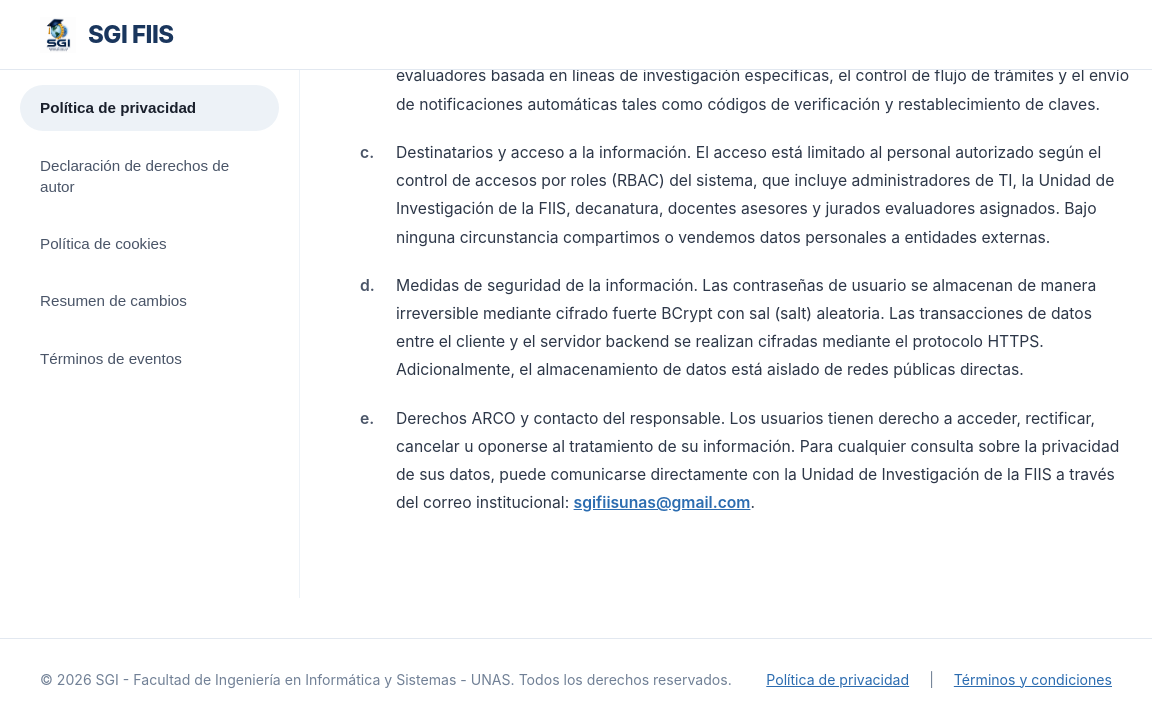
Test case: PrivacyPolicyPage › switches tabs when footer links are clicked
Target the specific footer texts
Click the text "Términos y condiciones" at [1033, 679], box [954,669,1112,690]
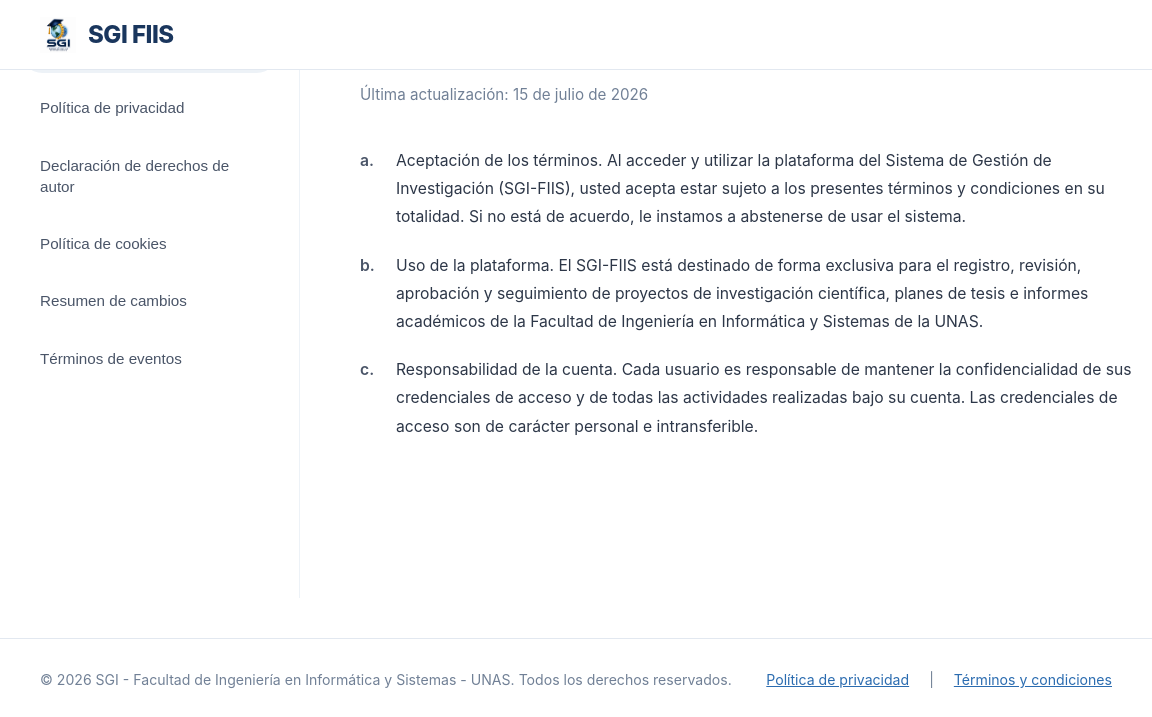
Expected: the heading "Términos y condiciones de uso" is shown, [360,32,844,71]
Click the text "Política de privacidad" at [838, 680], box [766,669,909,690]
(page scrolled)
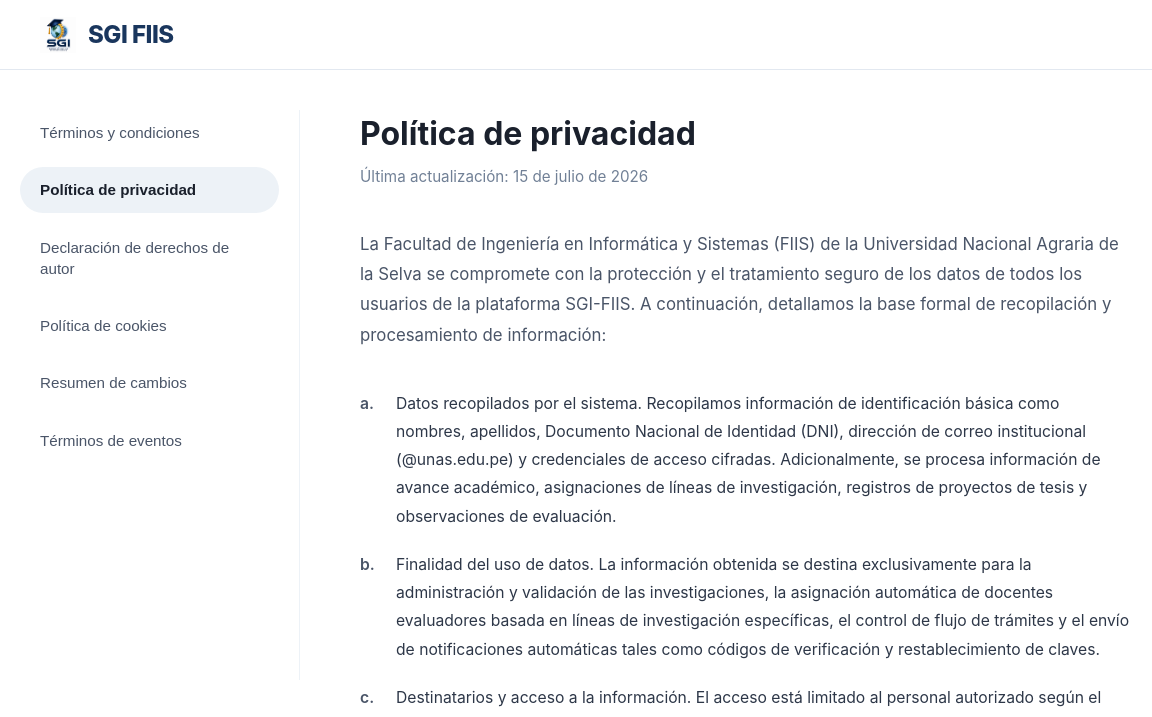
Expected: the heading "Política de privacidad" is shown, [360,114,696,153]
